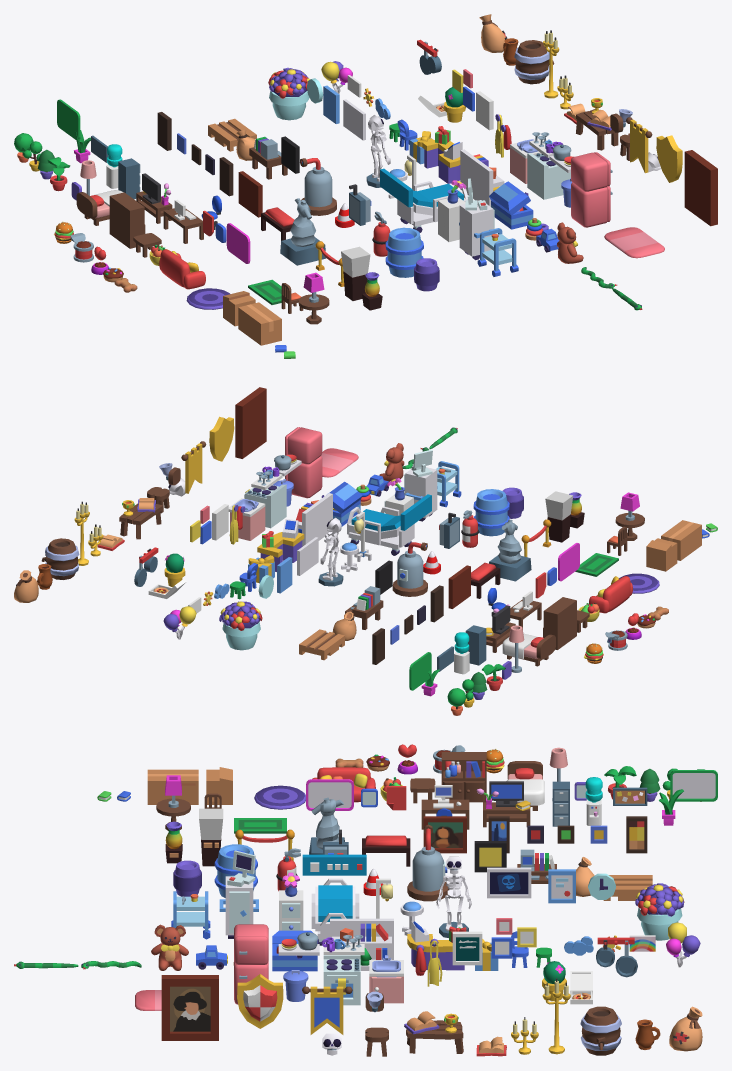
Rendered from DecorationMeshLibraryv02.fbx.
3 renders of one model, top to bottom at view 1: azimuth 30°, elevation 25°; view 2: azimuth 150°, elevation 25°; view 3: azimuth 270°, elevation 25°, orthographic. The views are drawn at different scales.
Parts seen in each view (by area): view 1: Fridge, Frame_OilPainting, Plant06, HospitalBed, Statue_Woman, BookCase.001, Barrel_Blue, ToyChest, Shelves, BoxLong, Oven, CylinderPump (+38 smaller); view 2: Fridge, HospitalBed, Frame_OilPainting, Plant06, Barrel_Blue, CylinderPump, Statue_Woman, BookCase.001, Shelves, BarrelDrink, Bed, Oven (+32 smaller); view 3: Frame_OilPainting, Shelves, BookCase.001, HospitalBed, Plant06, Fridge, Frame_Shield, CylinderPump, BarrelDrink, Frame_Flag, Oven, MachineStand (+58 smaller).
Part boxes in pixels (<box>): Fridge: <box>571,152,612,227</box>; Frame_OilPainting: <box>684,150,717,226</box>; Plant06: <box>268,67,309,120</box>; HospitalBed: <box>397,181,467,232</box>; Statue_Woman: <box>280,198,326,265</box>; BookCase.001: <box>109,192,145,248</box>; Barrel_Blue: <box>385,227,423,277</box>; ToyChest: <box>489,181,533,229</box>; Shelves: <box>460,149,504,206</box>; BoxLong: <box>238,302,281,345</box>; Oven: <box>527,153,570,199</box>; CylinderPump: <box>300,158,336,215</box>; Fridge: <box>285,427,322,498</box>; HospitalBed: <box>347,506,414,555</box>; Frame_OilPainting: <box>235,387,266,458</box>; Plant06: <box>219,601,262,650</box>; Barrel_Blue: <box>473,489,509,536</box>; CylinderPump: <box>392,542,427,596</box>; Statue_Woman: <box>489,519,531,581</box>; BookCase.001: <box>543,597,576,649</box>; Shelves: <box>296,493,332,546</box>; BarrelDrink: <box>41,538,79,579</box>; Bed: <box>502,633,555,666</box>; Oven: <box>244,484,286,528</box>; Frame_OilPainting: <box>161,975,218,1040</box>; Shelves: <box>330,918,393,970</box>; BookCase.001: <box>441,752,486,802</box>; HospitalBed: <box>311,878,359,945</box>; Plant06: <box>635,883,684,940</box>; Fridge: <box>234,924,268,1004</box>; Frame_Shield: <box>237,974,283,1028</box>; CylinderPump: <box>407,824,449,901</box>; BarrelDrink: <box>580,1006,621,1055</box>; Frame_Flag: <box>302,986,352,1034</box>; Oven: <box>323,955,360,1005</box>; MachineStand: <box>219,876,258,938</box>.
Bounding box in the file's own units: 7425 × 925 × 7397.
